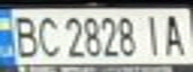2: (60, 12, 84, 59), (100, 12, 121, 59)
8: (115, 12, 142, 59), (81, 12, 103, 59)
A: (157, 10, 193, 57)
B: (6, 11, 42, 60)
C: (33, 12, 60, 59)
I: (139, 11, 169, 57)
